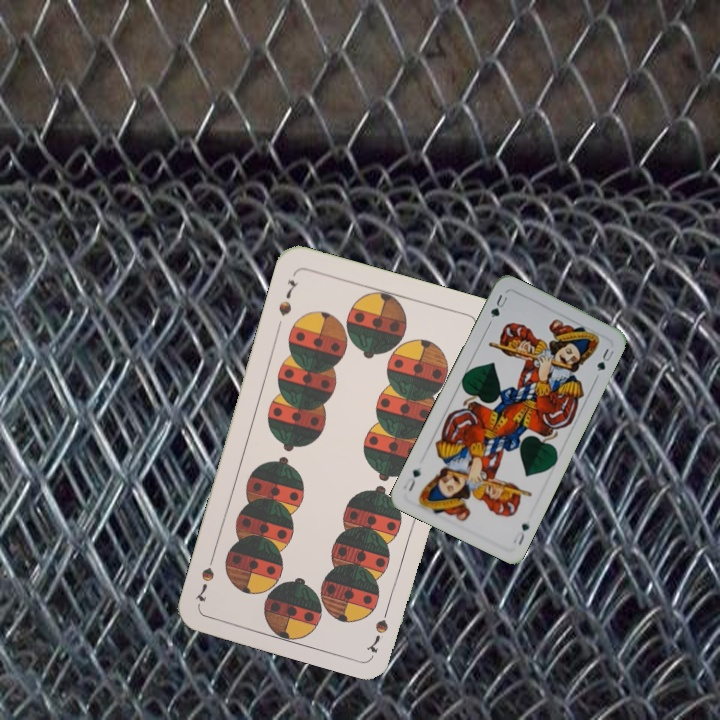GU: (485, 290, 510, 327), (514, 519, 532, 548)
S7: (365, 598, 393, 656), (274, 276, 301, 318)
